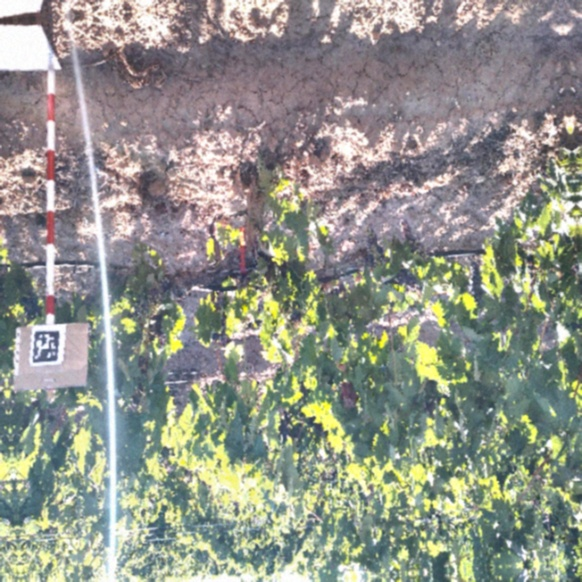QR: (32, 330, 58, 362)
